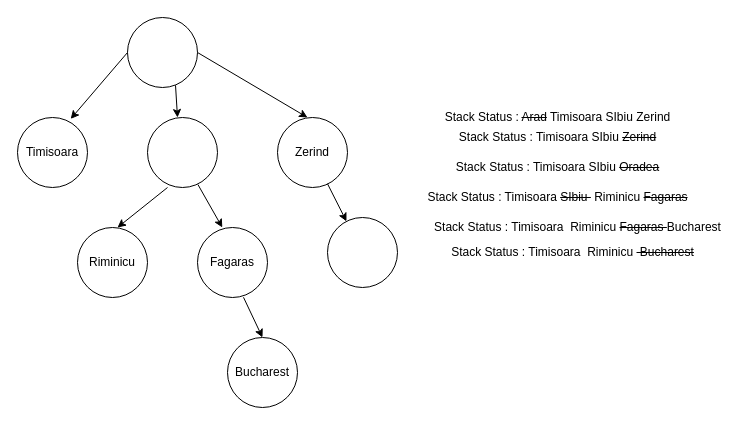
Image size: 745x425. Some labels were removed from this diagram. The centre of each missing label's shape, as x and y in pixels:
Arad: point 162,52
Oradea: point 362,252
Sibiu: point 182,152
